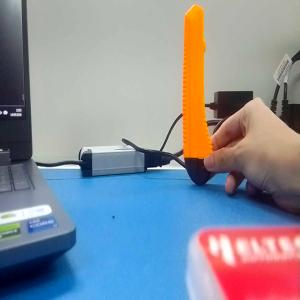estilete: (182, 4, 216, 187)
